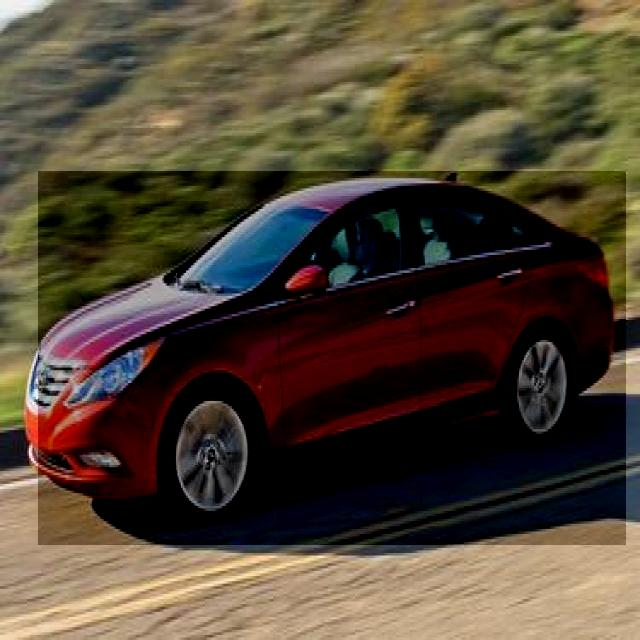Car: (38, 172, 626, 546)
